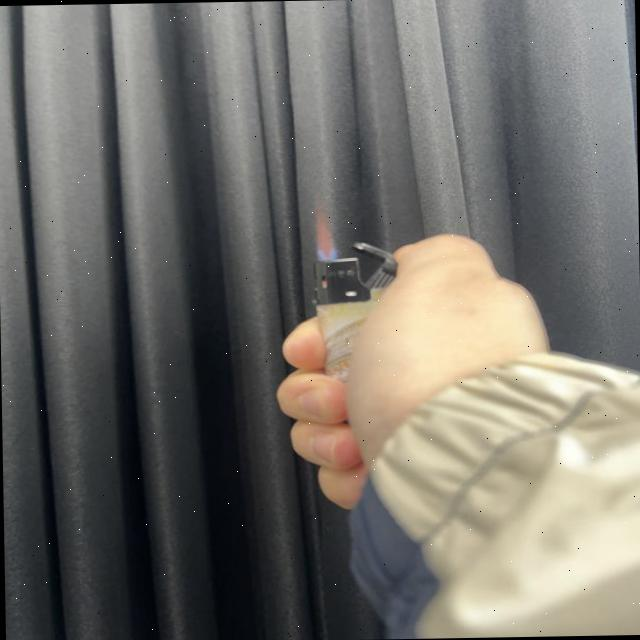fire: (312, 195, 338, 263)
